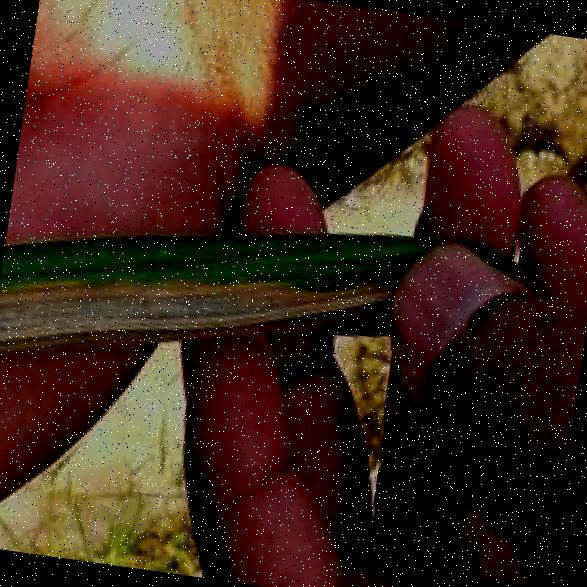Bacteria_Leaf_Blight: (14, 250, 476, 390)
